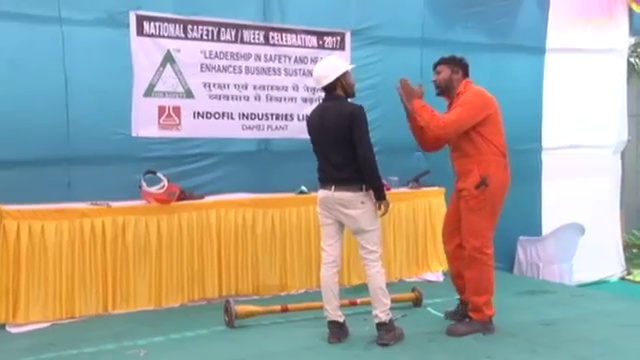helmet: (311, 55, 356, 89)
helmet_off: (432, 56, 470, 97)
helmet_on: (308, 54, 357, 101)
person: (392, 53, 511, 339), (298, 53, 401, 345)
